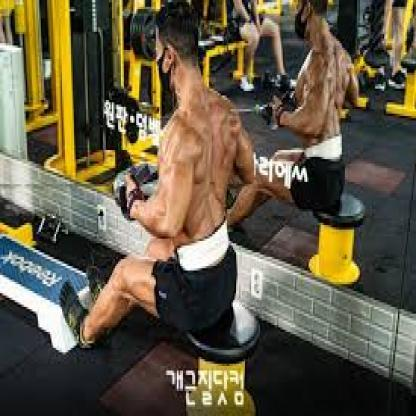Seated Cable Rows: (0, 0, 281, 416)
